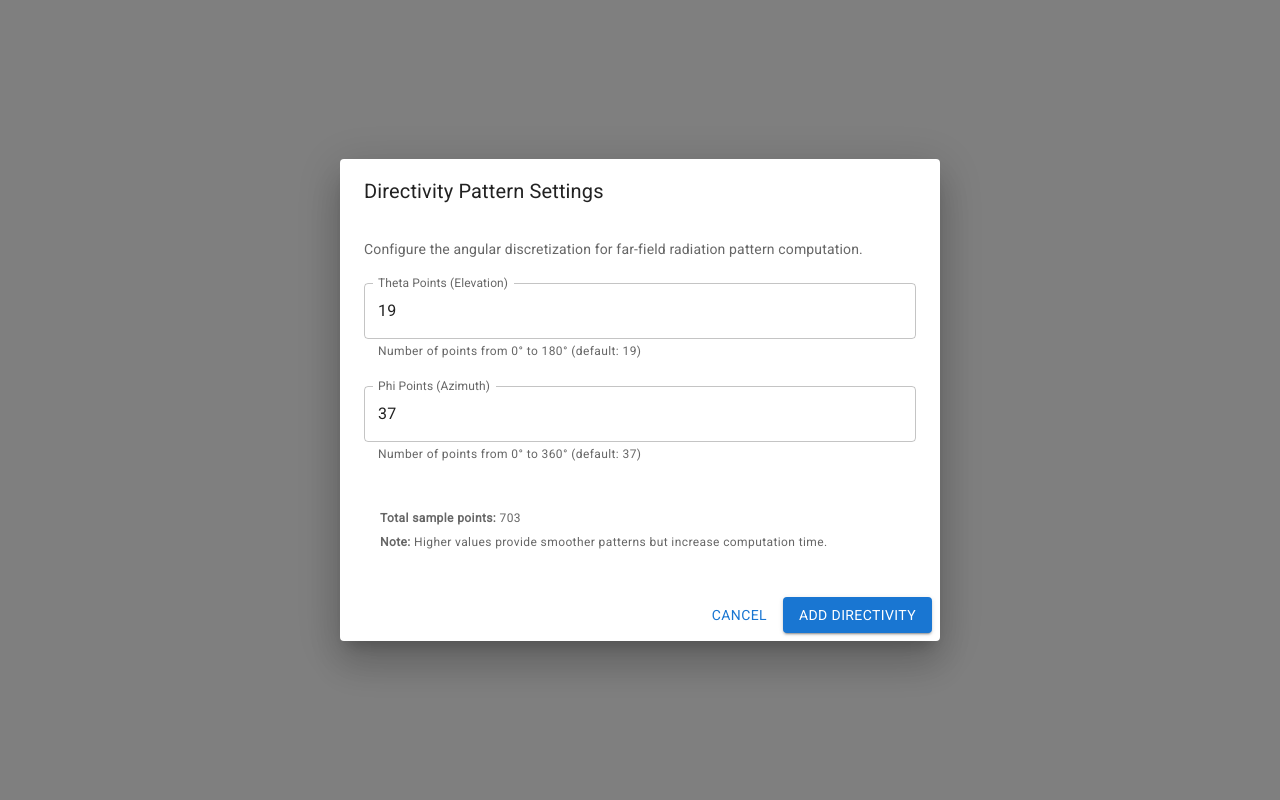
it: DirectivitySettingsDialog › validates phi points range
# Test below minimum
Replace the text in the number field labelled "Phi Points (Azimuth)" with "2": {"x": 640, "y": 414} x1=364 y1=386 x2=916 y2=442
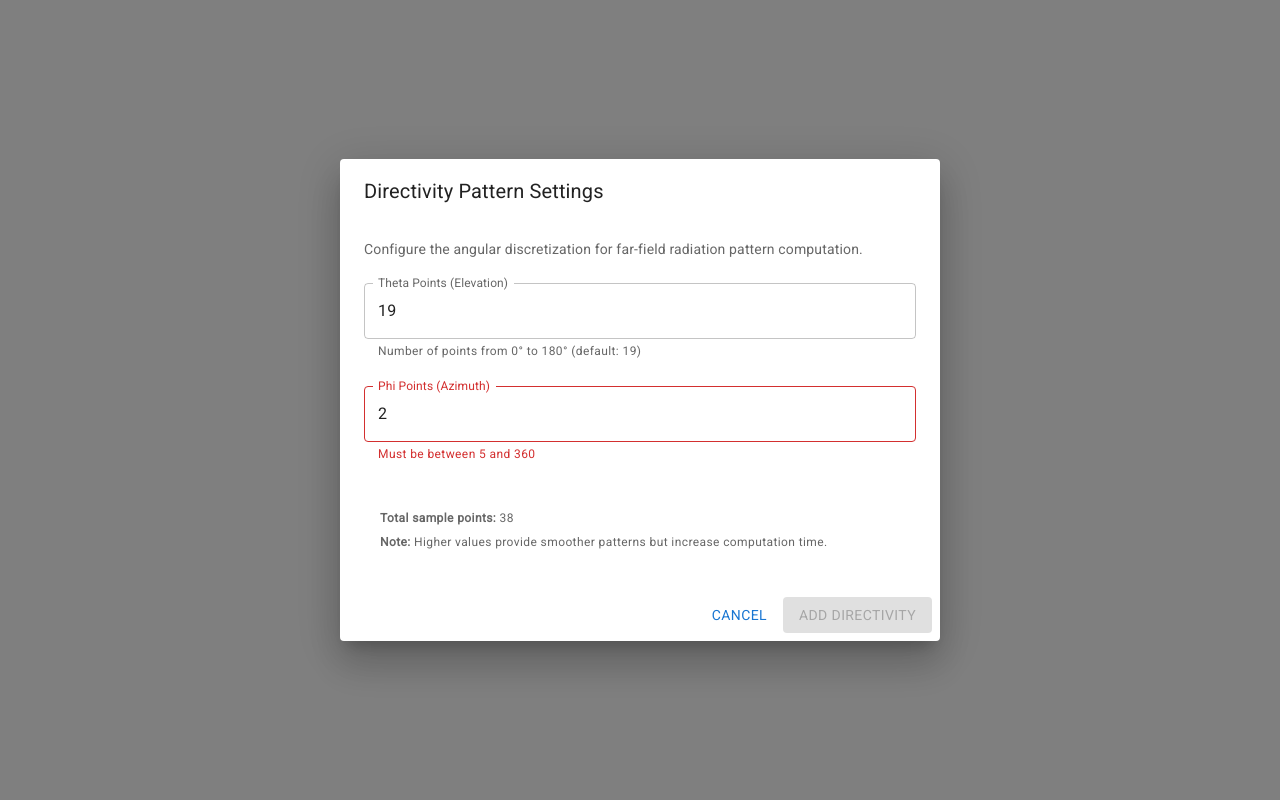
Check: the text "Must be between 5 and 360" is shown, box x1=378 y1=447 x2=536 y2=461
# Test above maximum
Replace the text in the number field labelled "Phi Points (Azimuth)" with "400": {"x": 640, "y": 414} x1=364 y1=386 x2=916 y2=442
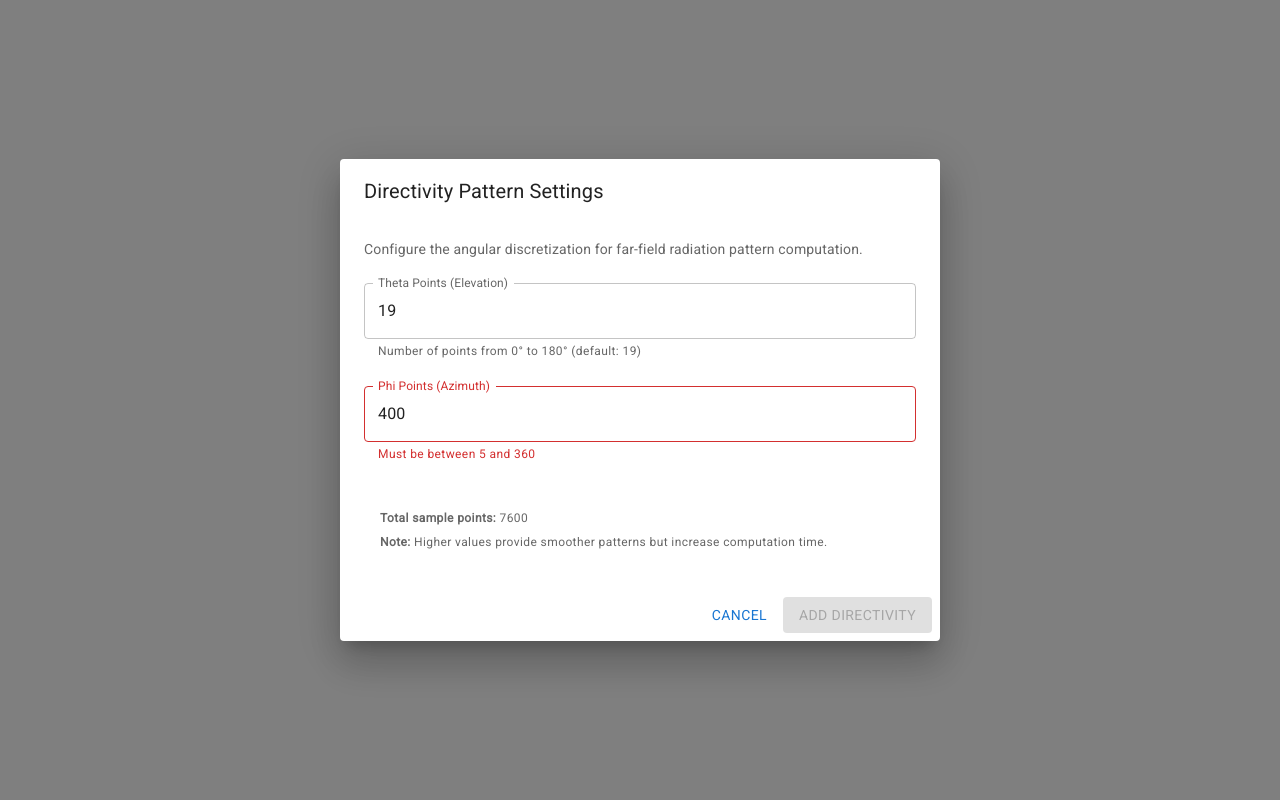
Check: the text "Must be between 5 and 360" is shown, box x1=378 y1=447 x2=536 y2=461
# Test valid value
Replace the text in the number field labelled "Phi Points (Azimuth)" with "100": {"x": 640, "y": 414} x1=364 y1=386 x2=916 y2=442
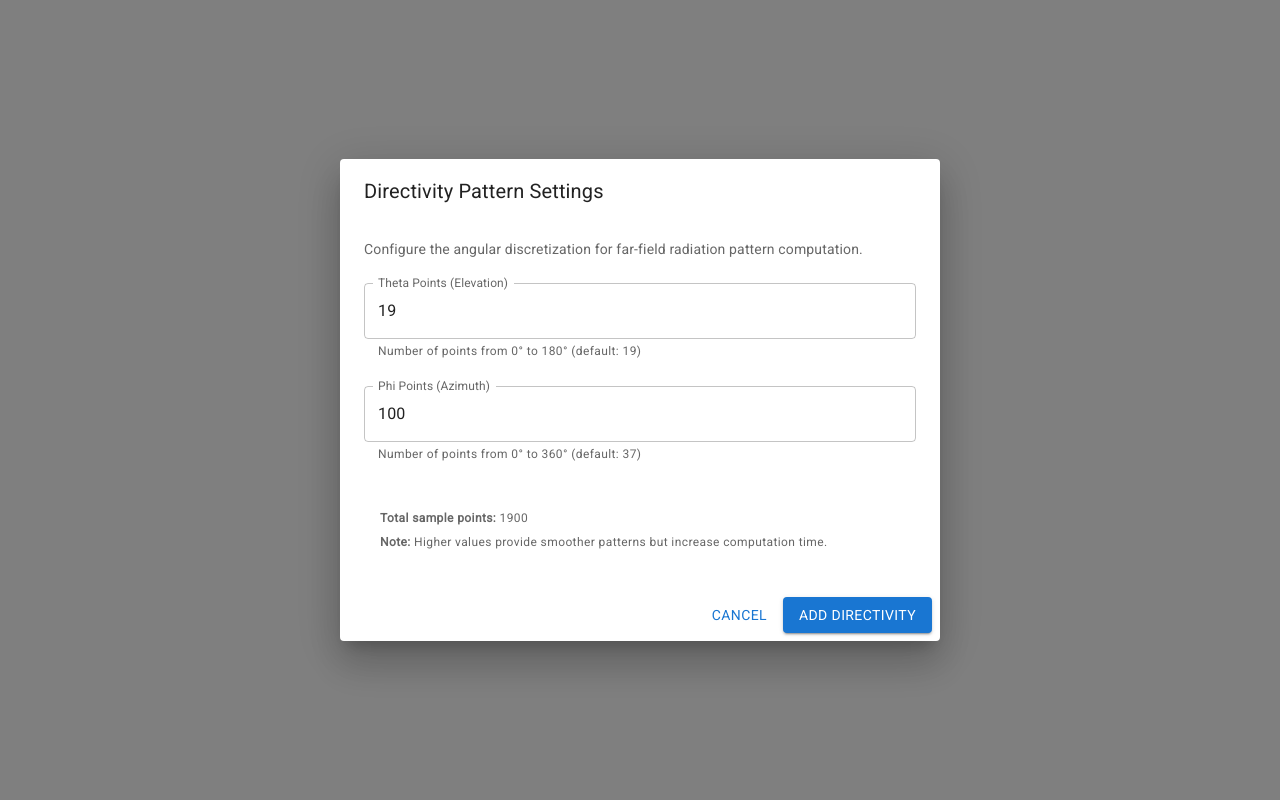
Check: the text "Must be between 5 and 360" is gone
